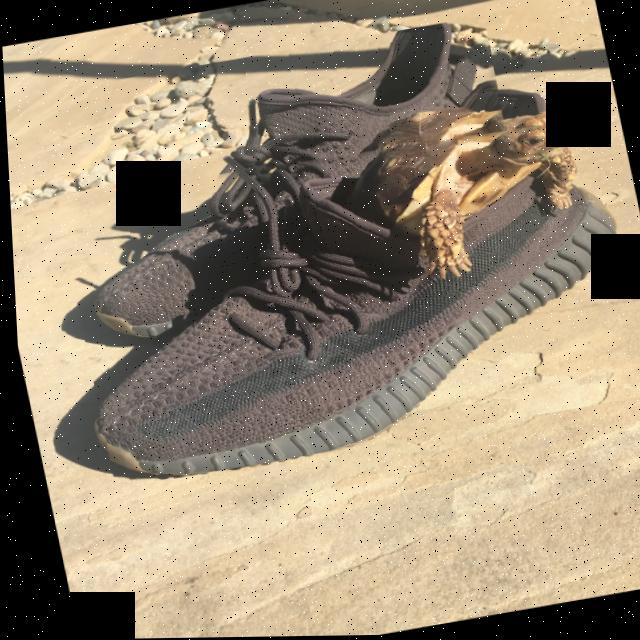shoe: (48, 102, 640, 489), (41, 17, 538, 347)
